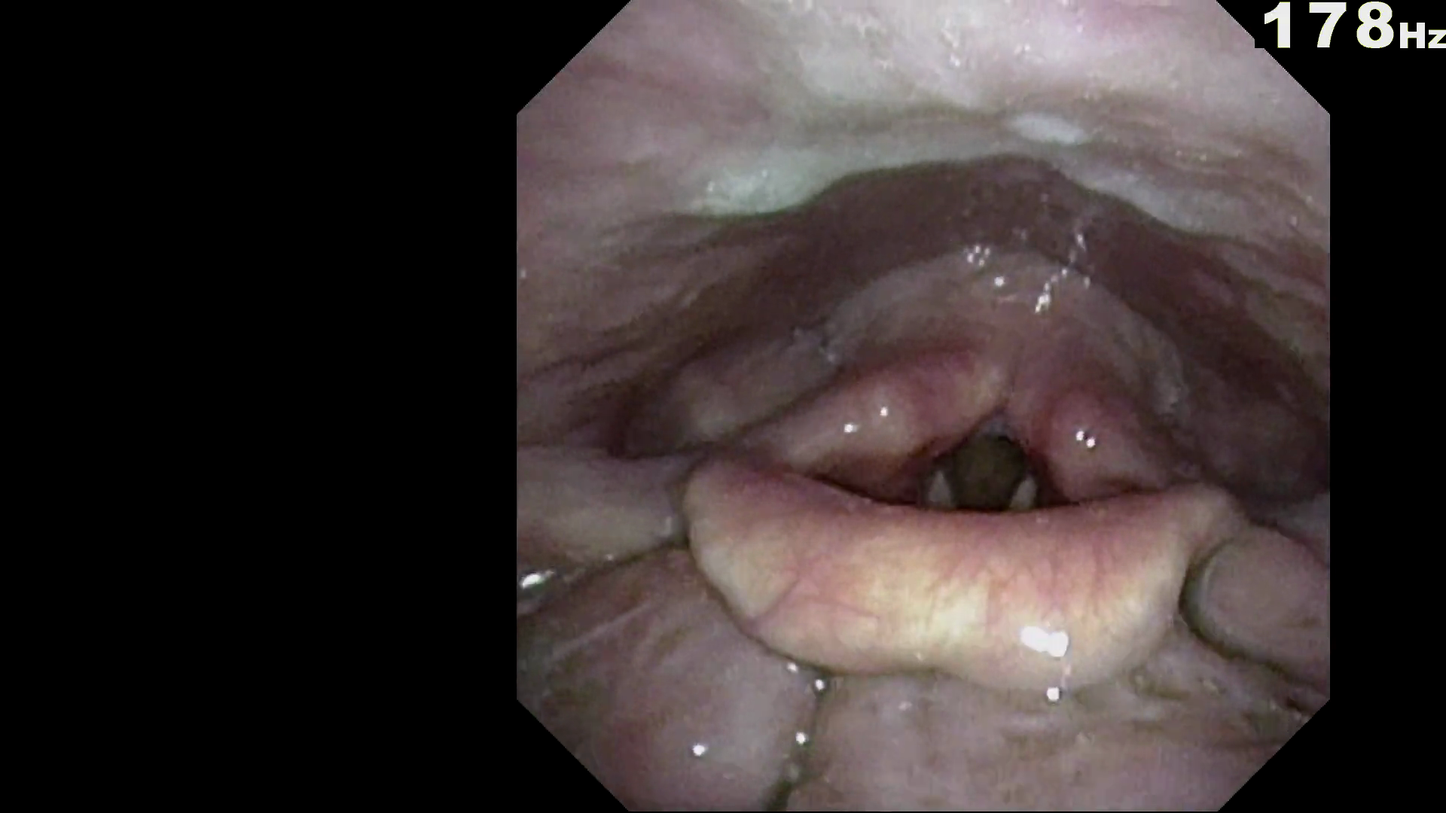epiglottis: (675, 489, 1218, 680)
trachea: (917, 431, 1059, 542)
